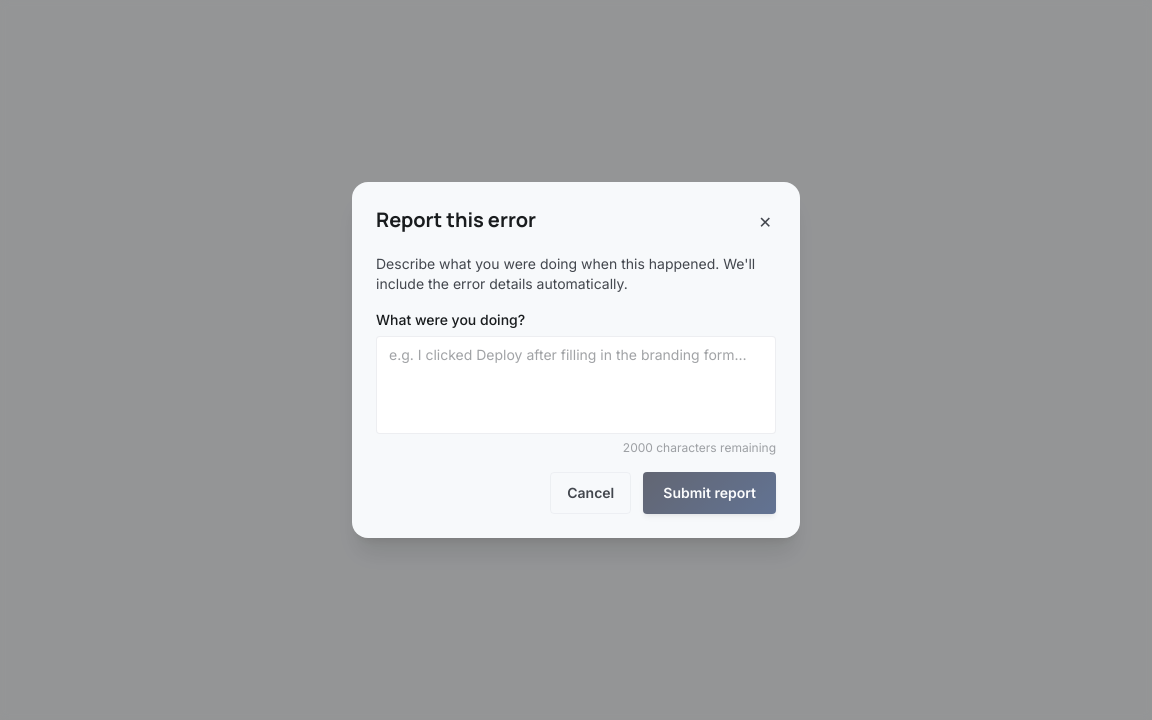
Test: ErrorReportForm › shows success state after successful submission
The width and height of the screenshot is (1152, 720).
Step 1. Type "I clicked deploy" into the text box labelled "What were you doing?" → {"x": 576, "y": 385}, box [376,336,776,434]
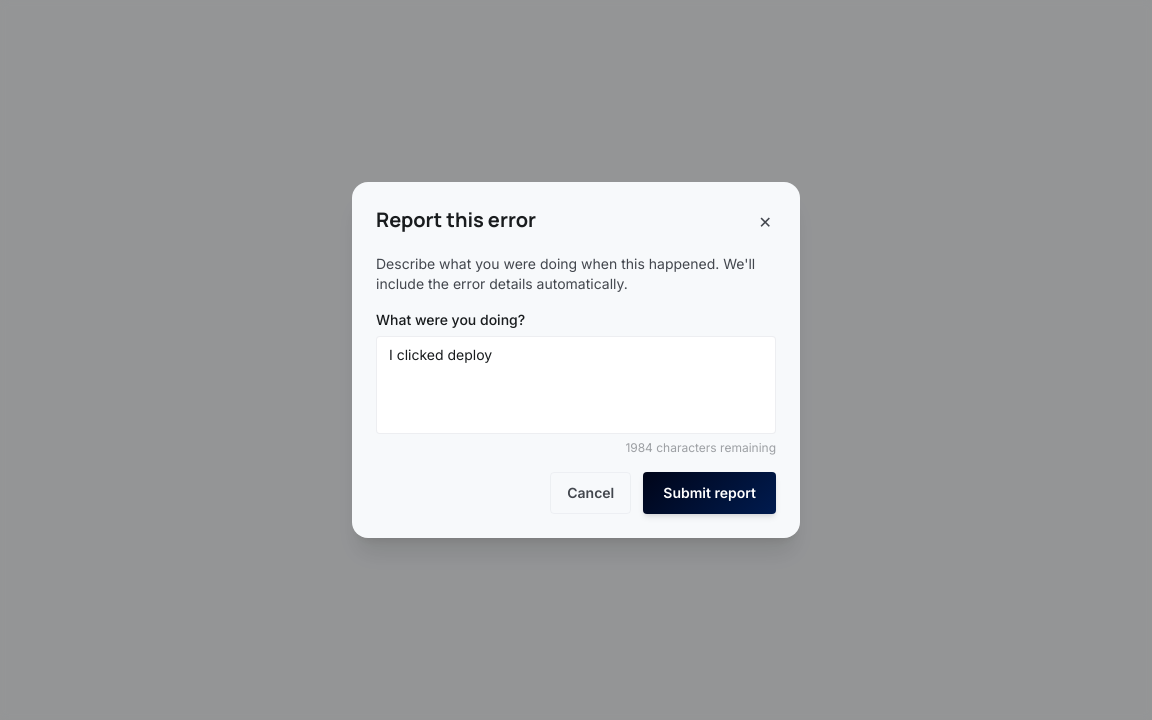
Step 2. Click the button "Submit report" → {"x": 710, "y": 493}, box [643,472,776,514]
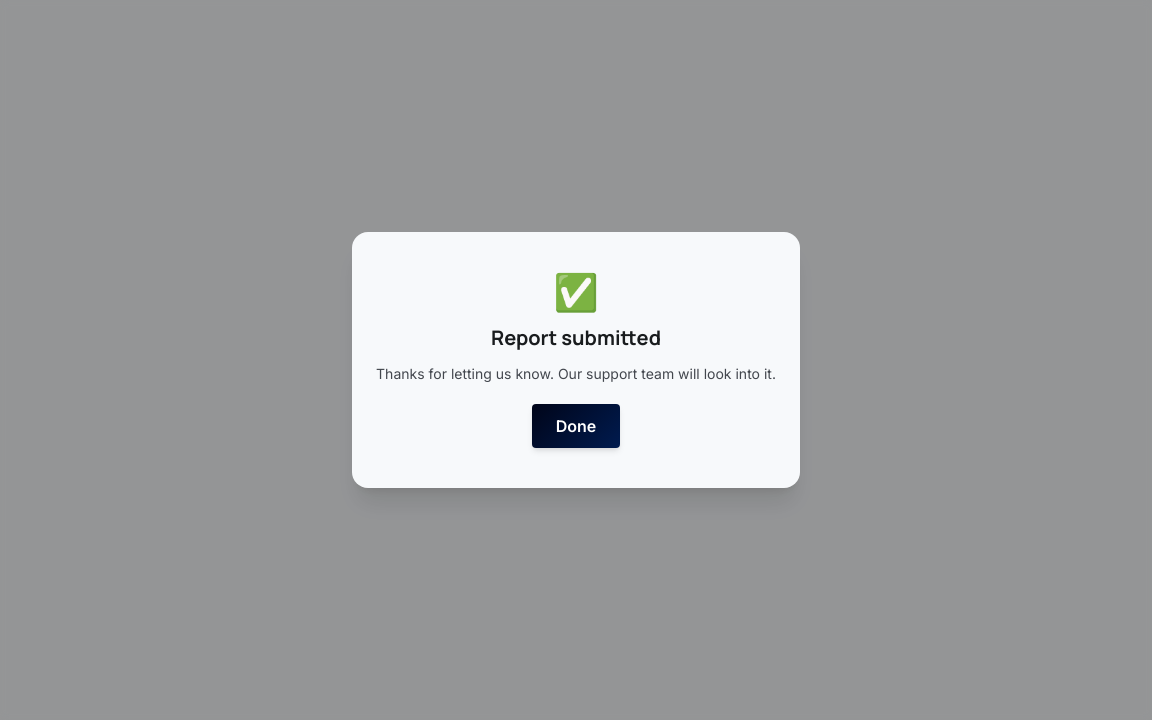
Expected: the heading "Report submitted" is shown, [491,324,661,352]
